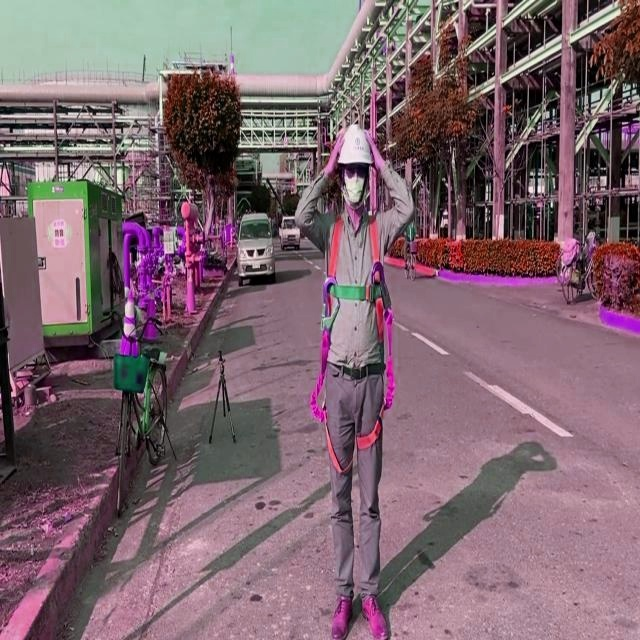safety belt: (317, 212, 398, 477)
